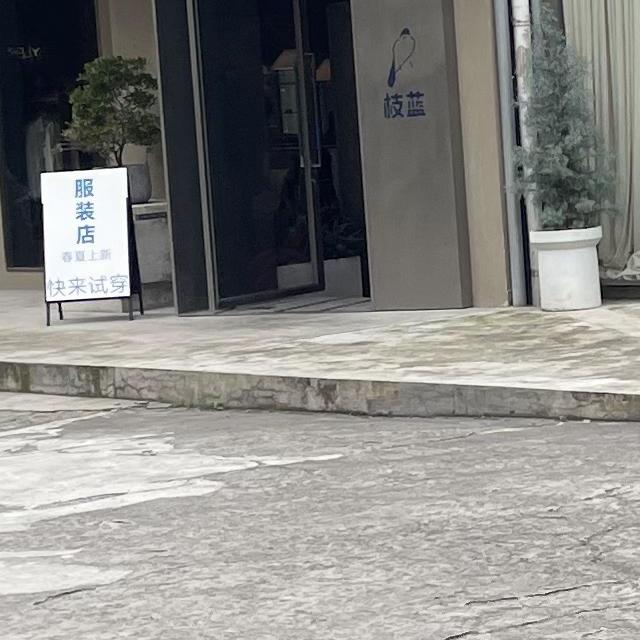curb: (0, 360, 639, 421)
